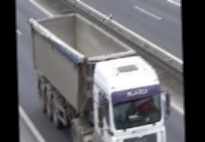truck: (31, 12, 172, 142)
